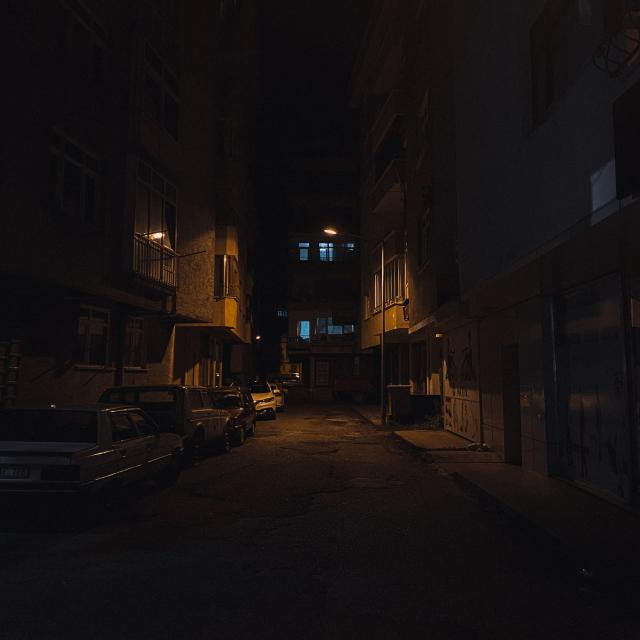Street Light: (323, 226, 385, 425)
